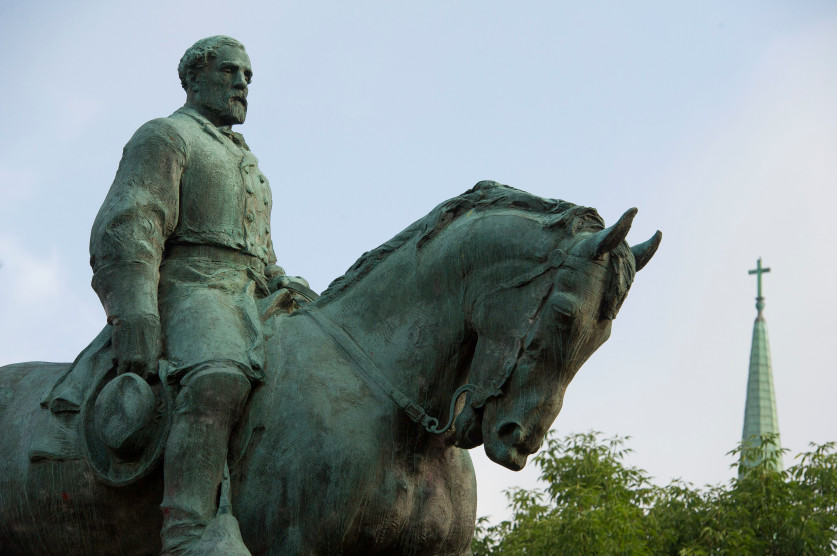person-like: (62, 29, 329, 556)
